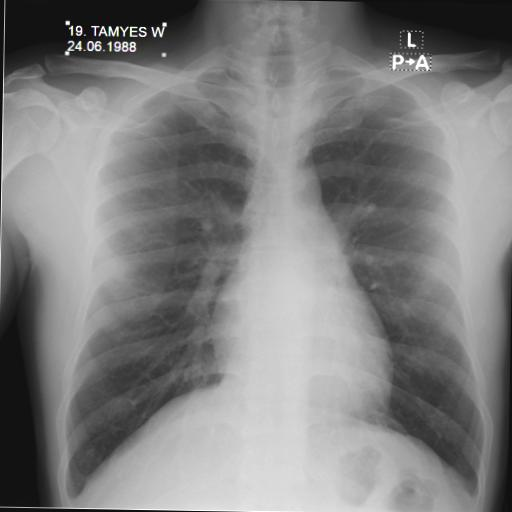normal: (44, 38, 498, 512)
